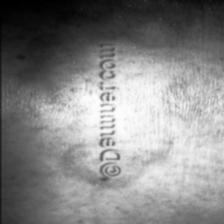Non-Cancerous Skin Condition: (124, 0, 222, 195), (0, 8, 93, 184)
